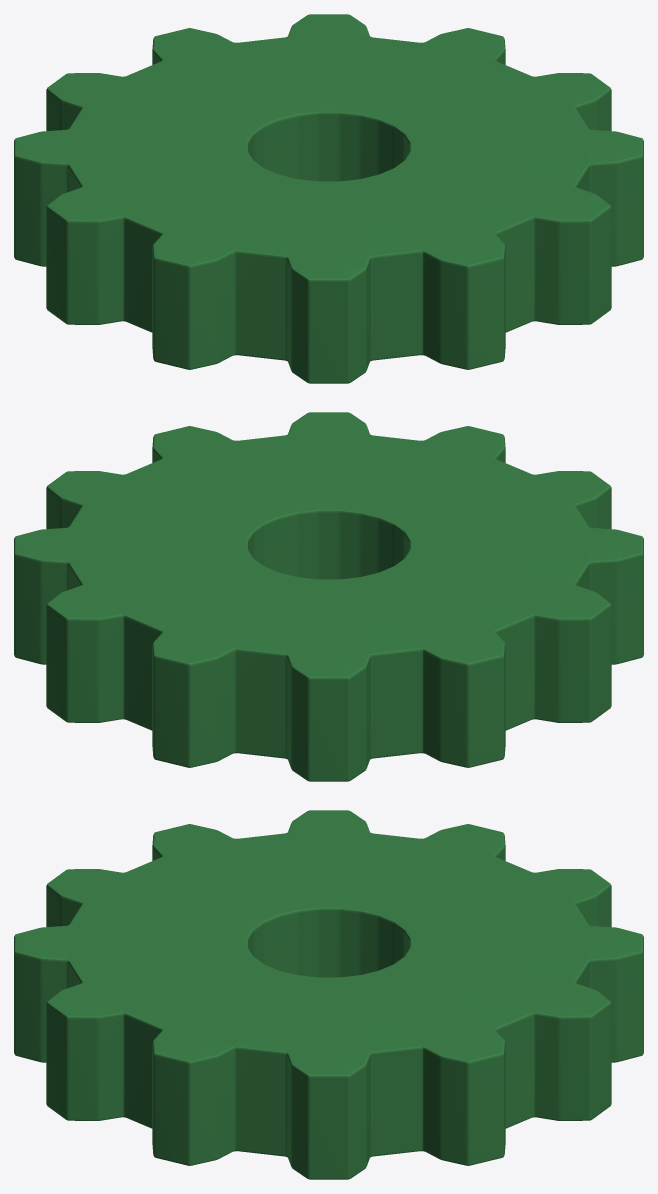
The model's file is Gear_12T.fbx.
3 views of the same model, one above another, from view 1: azimuth 30°, elevation 25°; view 2: azimuth 150°, elevation 25°; view 3: azimuth 270°, elevation 25° (orthographic).
Parts seen in each view (by area): view 1: Gear_12T; view 2: Gear_12T; view 3: Gear_12T.
Part boxes in pixels (<box>): Gear_12T: <box>14,14,643,383</box>; Gear_12T: <box>14,412,643,781</box>; Gear_12T: <box>14,810,643,1179</box>.
Bounding box in the file's own units: 5.35 × 0.9863 × 5.35.
